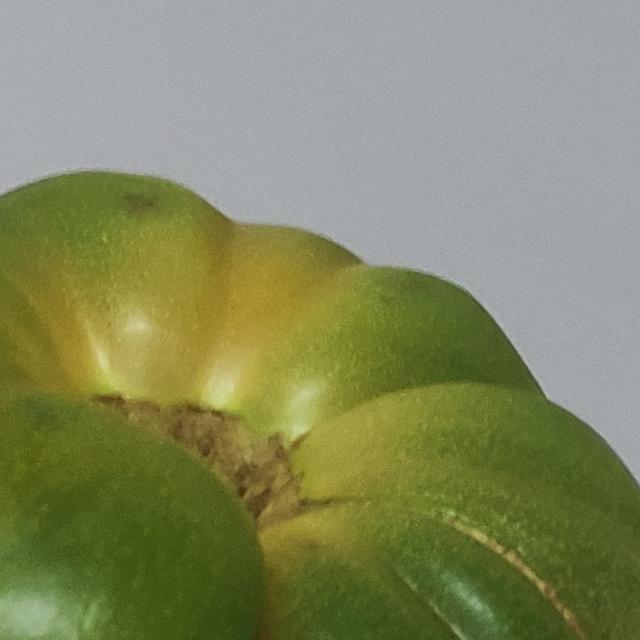tomato: (0, 54, 640, 640)
